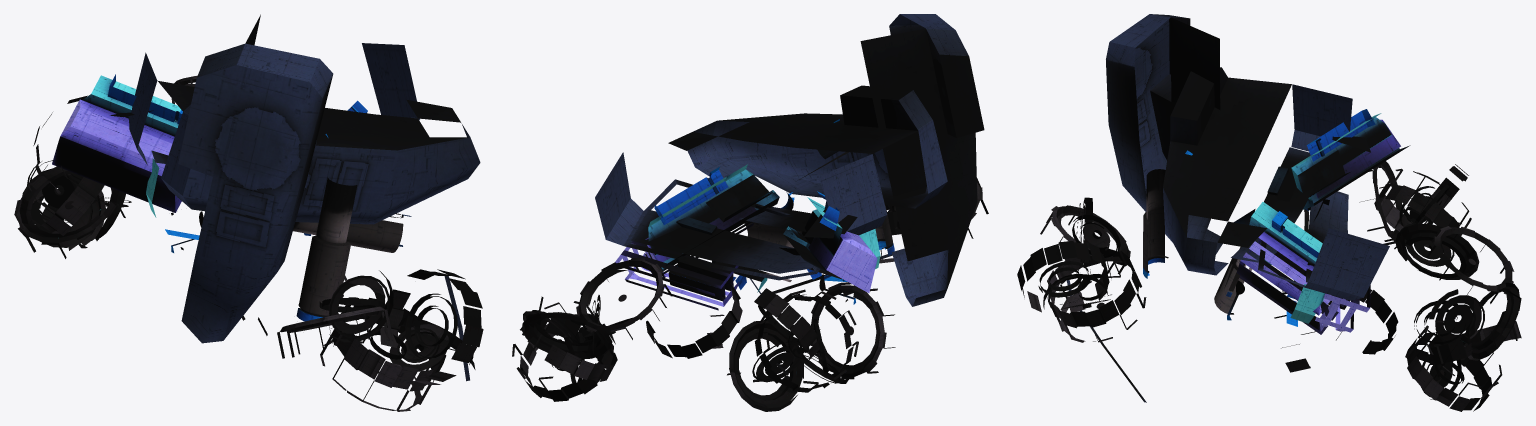
Rendered from PlayerA_Die16.obj.
The picture shows the model from 3 angles, left to right: view 1: azimuth 30°, elevation 25°; view 2: azimuth 150°, elevation 25°; view 3: azimuth 270°, elevation 25°; orthographic projection. The views are drawn at different scales.
Parts seen in each view (by area): view 1: Object001; view 2: Object001; view 3: Object001.
Boxes of the visible parts, x1=… form: Object001: x1=14, y1=14, x2=483, y2=411; Object001: x1=512, y1=14, x2=988, y2=411; Object001: x1=1017, y1=14, x2=1521, y2=411.
Size of the model in its own units: 161 by 148 by 220.
Materials: 1 (1 with a texture image).
